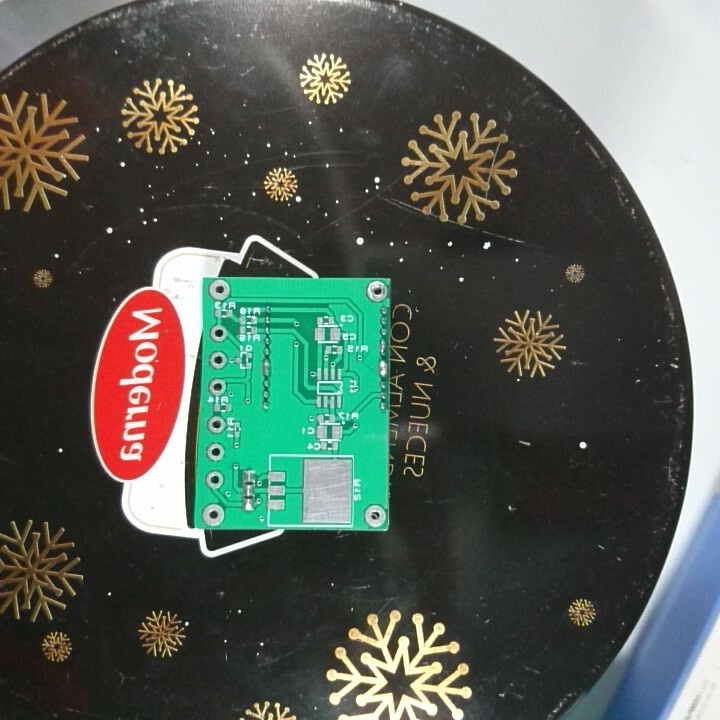F: (361, 500, 387, 528), (198, 501, 226, 527), (208, 278, 234, 302), (201, 469, 226, 492), (364, 280, 387, 304), (206, 414, 228, 437), (204, 442, 227, 463), (206, 377, 228, 398), (208, 349, 228, 371), (208, 323, 228, 344)
P: (260, 356, 273, 379), (377, 358, 389, 379), (377, 336, 387, 357)
